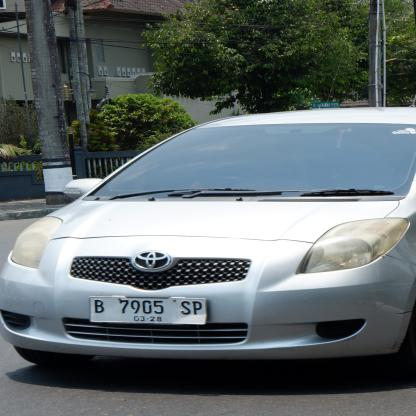Plat-Nomor: (88, 293, 213, 331)
